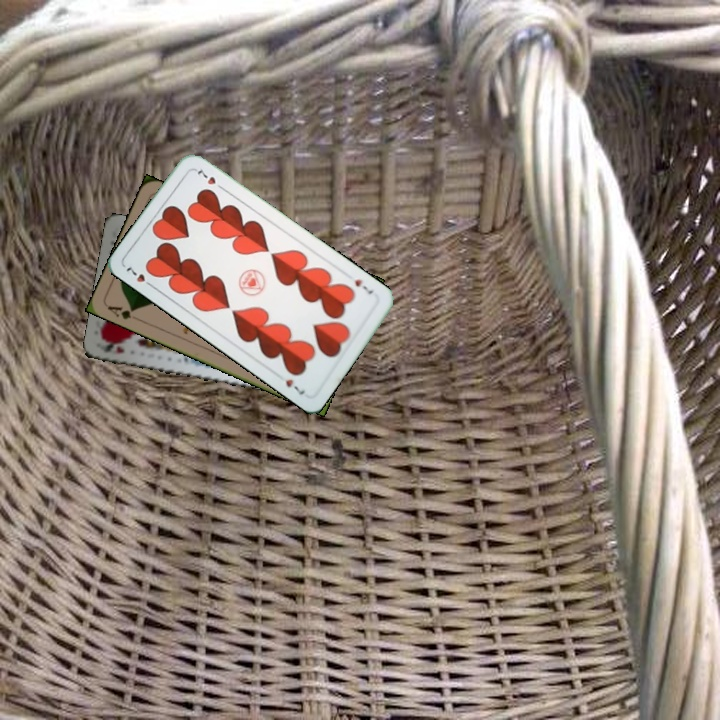GA: (103, 302, 137, 322)
H7: (122, 263, 157, 291), (351, 275, 376, 297)
HK: (97, 338, 127, 356)
